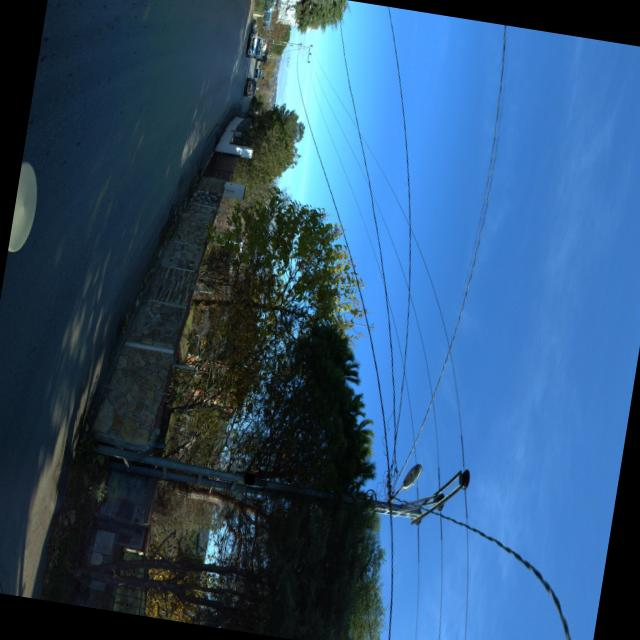Utility Pole Information Plate: (243, 473, 254, 486)
